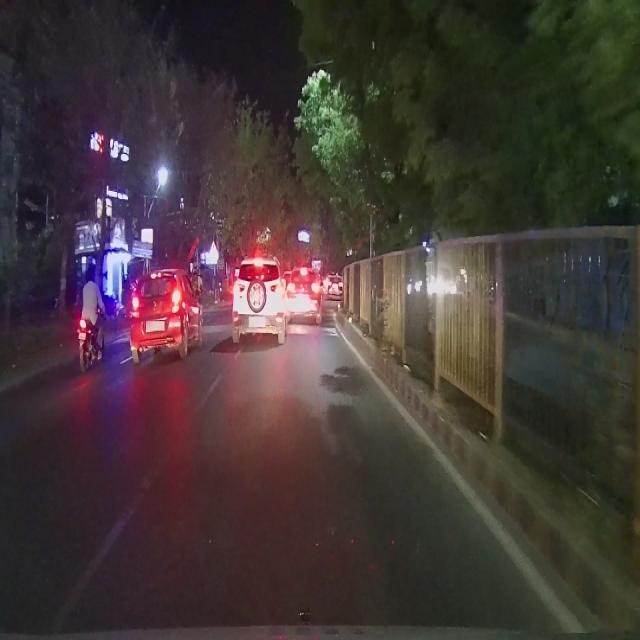car ahead at: (130, 266, 204, 362), (230, 258, 284, 344)
